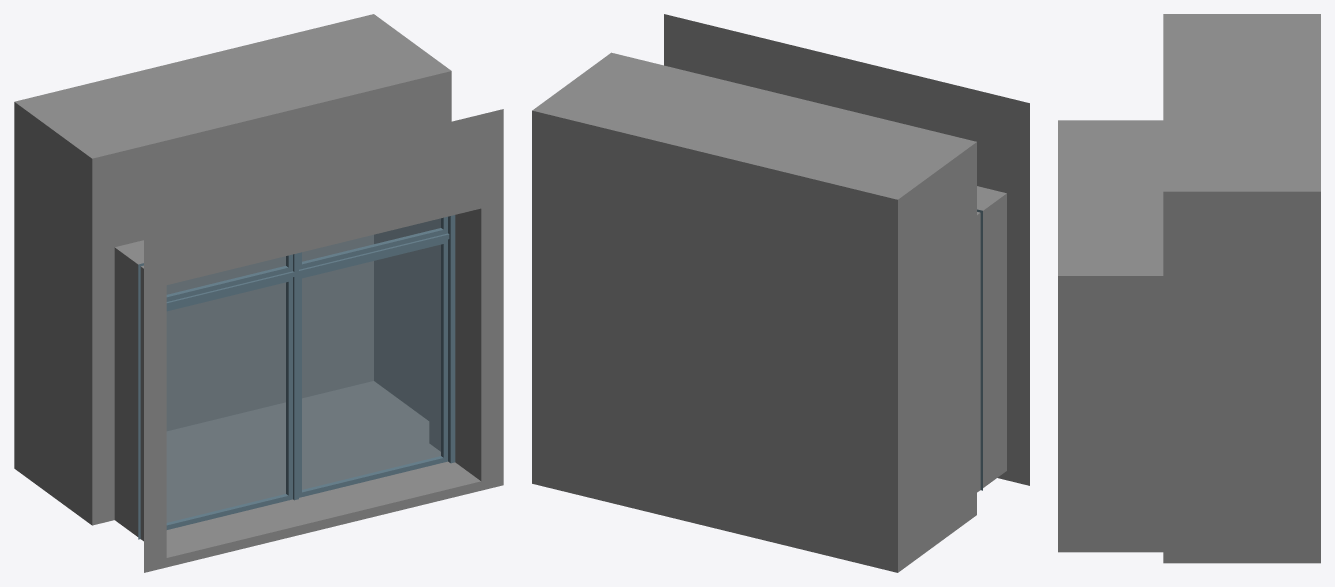
Rendered from officeBuilding01_entrance02.FBX.
3 views of the same model, side by side, from view 1: azimuth 30°, elevation 25°; view 2: azimuth 150°, elevation 25°; view 3: azimuth 270°, elevation 25° (orthographic).
Visible parts, largest first — view 1: officeBuilding01_entrance02; view 2: officeBuilding01_entrance02; view 3: officeBuilding01_entrance02.
Part boxes in pixels (box(x1,y1,x2,y2)): officeBuilding01_entrance02: box(14, 14, 503, 572); officeBuilding01_entrance02: box(532, 14, 1029, 572); officeBuilding01_entrance02: box(1058, 14, 1320, 563).
Bounding box in the file's own units: 400 × 400 × 250.
